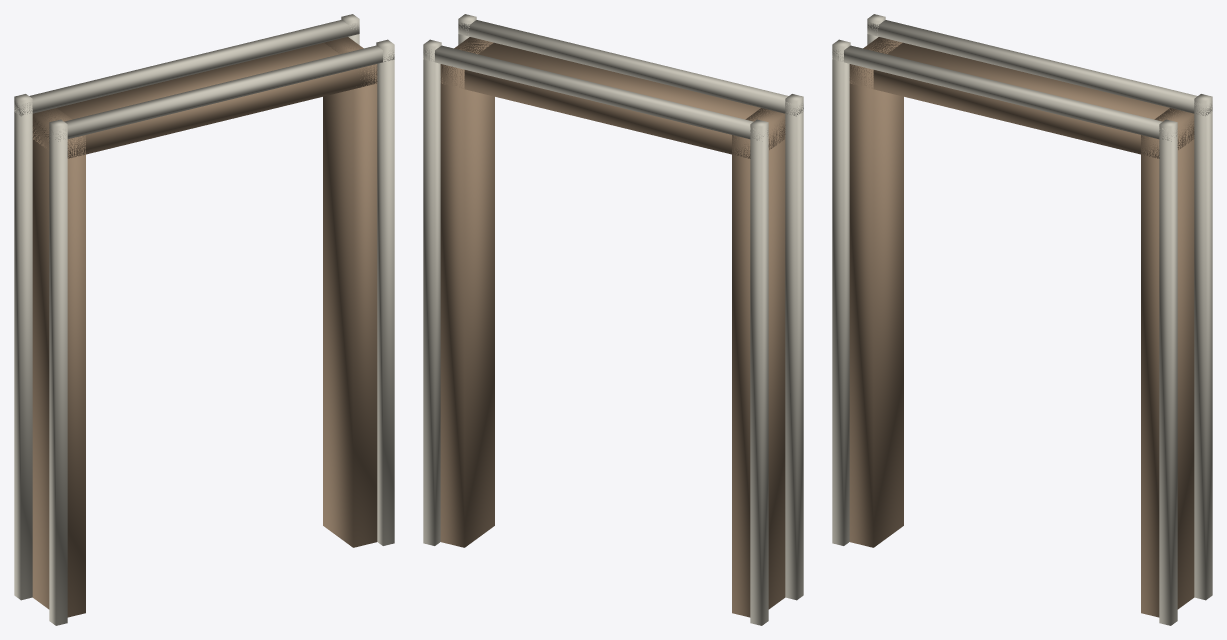
File: doorway_painted_trim_w122_h200_d24.glb
The picture shows the model from 3 angles, left to right: view 1: azimuth 30°, elevation 25°; view 2: azimuth 150°, elevation 25°; view 3: azimuth 330°, elevation 25°; orthographic projection.
Visible parts, largest first — view 1: world; view 2: world; view 3: world.
Part boxes in pixels (x1,y1,x2,y2): world: (14,14,394,625); world: (423,14,803,625); world: (832,14,1212,625).
Bounding box in the file's own units: 1.55 × 2.18 × 0.3296.
